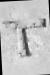Z11: (3, 0, 48, 74)
